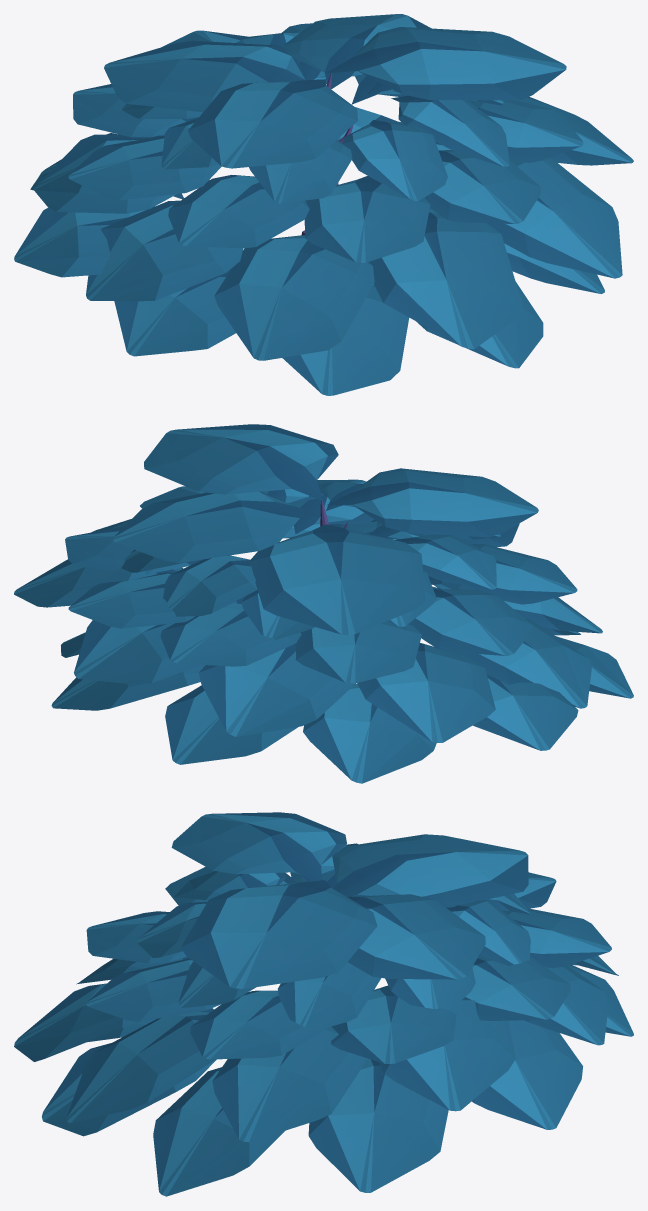
The model's file is Garden_HousePlant04.fbx.
3 views of the same model, one above another, from view 1: azimuth 30°, elevation 25°; view 2: azimuth 150°, elevation 25°; view 3: azimuth 270°, elevation 25° (orthographic). The views are drawn at different scales.
Visible parts, largest first — view 1: Cylinder.228; view 2: Cylinder.228; view 3: Cylinder.228.
Boxes of the visible parts, x1=… form: Cylinder.228: x1=14, y1=14, x2=633, y2=395; Cylinder.228: x1=14, y1=424, x2=633, y2=783; Cylinder.228: x1=14, y1=812, x2=633, y2=1196.
Bounding box in the file's own units: 37.1 × 15.25 × 36.06.
